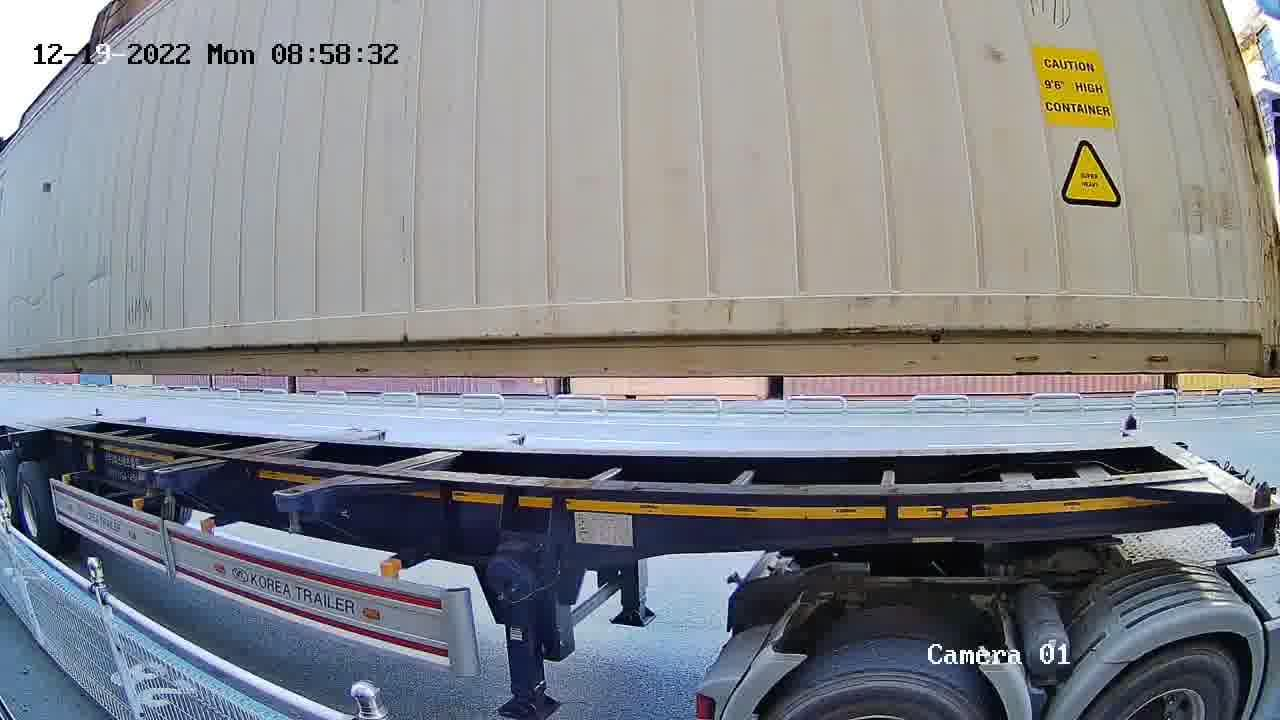Chassis: (1123, 427, 1279, 545)
Cone: (1241, 482, 1278, 552), (1118, 412, 1144, 434)
Hole_R: (1226, 311, 1279, 377)
Tire: (781, 672, 979, 715), (1100, 654, 1240, 712)
